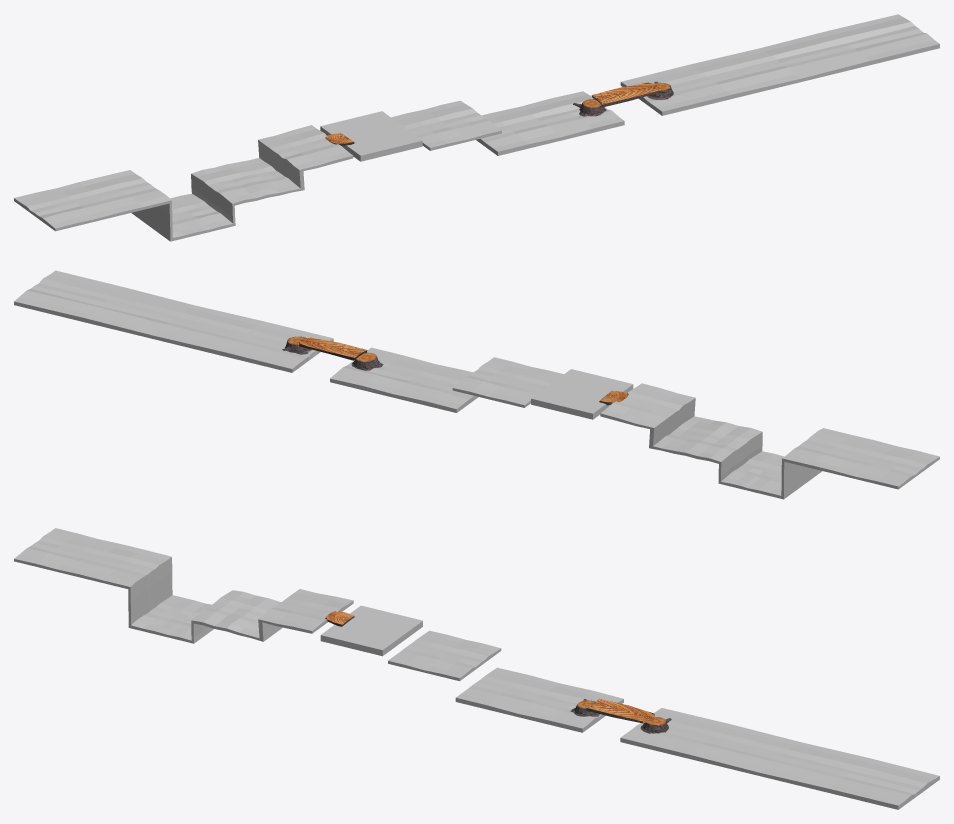
The model's file is Stage3.fbx.
3 views of the same model, one above another, from view 1: azimuth 30°, elevation 25°; view 2: azimuth 150°, elevation 25°; view 3: azimuth 330°, elevation 25° (orthographic).
Parts seen in each view (by area): view 1: Stage11, Stage1, Stage10, Stage9, Stage5, Stage8, Stage7, Stage3, Stump4, Stage4, Stage2, Stage6; view 2: Stage11, Stage1, Stage10, Stage9, Stage5, Stage8, Stage7, Stage3, Stage4, Stage2, Stage6, Stump4; view 3: Stage11, Stage10, Stage1, Stage9, Stage8, Stage7, Stage5, Stage3, Stage2, Stump4.
Part boxes in pixels (x1,y1,x2,y2): Stage11: [620, 14, 939, 115]; Stage1: [14, 170, 171, 231]; Stage10: [476, 91, 624, 155]; Stage9: [391, 100, 501, 150]; Stage5: [191, 158, 304, 203]; Stage8: [320, 111, 422, 161]; Stage7: [233, 125, 353, 205]; Stage3: [170, 193, 235, 241]; Stump4: [591, 82, 658, 107]; Stage4: [191, 174, 235, 225]; Stage2: [131, 201, 172, 241]; Stage6: [258, 140, 304, 189]; Stage11: [14, 270, 333, 372]; Stage1: [782, 428, 939, 489]; Stage10: [330, 347, 478, 412]; Stage9: [452, 357, 563, 407]; Stage5: [649, 416, 762, 463]; Stage8: [531, 369, 633, 419]; Stage7: [600, 383, 695, 428]; Stage3: [719, 451, 783, 499]; Stage4: [718, 432, 762, 483]; Stage2: [781, 459, 822, 498]; Stage6: [649, 398, 695, 447]; Stump4: [298, 337, 367, 360]; Stage11: [620, 708, 939, 809]; Stage10: [455, 667, 623, 732]; Stage1: [14, 528, 171, 588]; Stage9: [388, 630, 501, 681]; Stage8: [320, 605, 422, 656]; Stage7: [191, 589, 353, 633]; Stage5: [191, 590, 280, 641]; Stage3: [129, 595, 211, 643]; Stage2: [128, 557, 172, 627]; Stump4: [586, 698, 655, 723].
Size of the model in its own units: 21550 by 997 by 1780.
